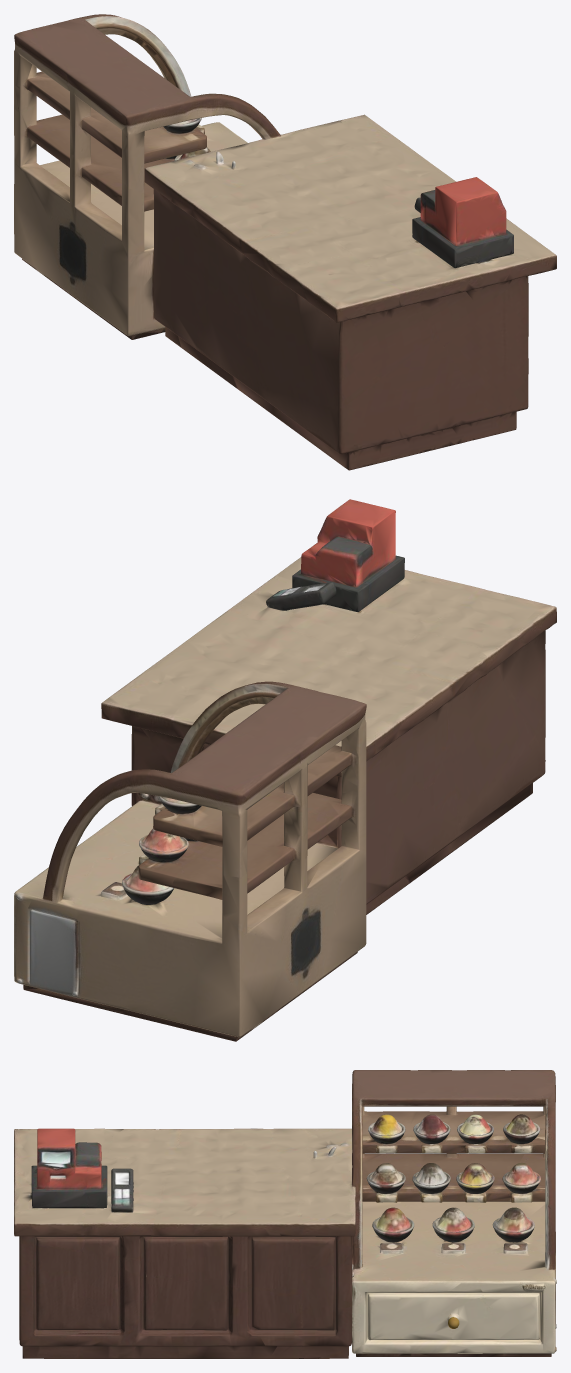
The model's file is KR_사물_s1_desk_cashier_old.glb.
3 views of the same model, one above another, from view 1: azimuth 30°, elevation 25°; view 2: azimuth 150°, elevation 25°; view 3: azimuth 270°, elevation 25° (orthographic). The views are drawn at different scales.
Visible parts, largest first — view 1: tripo_node_aef29379-dd1b-47b2-b02d-6125abd8ca73; view 2: tripo_node_aef29379-dd1b-47b2-b02d-6125abd8ca73; view 3: tripo_node_aef29379-dd1b-47b2-b02d-6125abd8ca73.
Boxes of the visible parts, left/top/right/bottom form: tripo_node_aef29379-dd1b-47b2-b02d-6125abd8ca73: left=14, top=14, right=556, bottom=470; tripo_node_aef29379-dd1b-47b2-b02d-6125abd8ca73: left=14, top=499, right=556, bottom=1041; tripo_node_aef29379-dd1b-47b2-b02d-6125abd8ca73: left=14, top=1070, right=556, bottom=1358.
Bounding box in the file's own units: 0.4527 × 0.4227 × 0.9999.
Materials: 1 (1 with a texture image).
